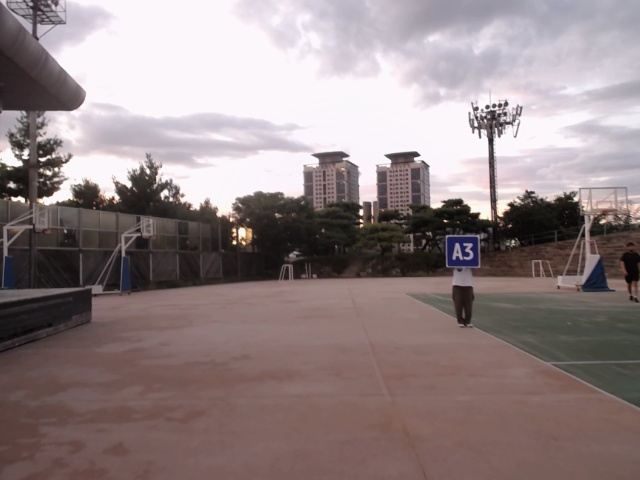delivery_a3: (445, 235, 478, 268)
